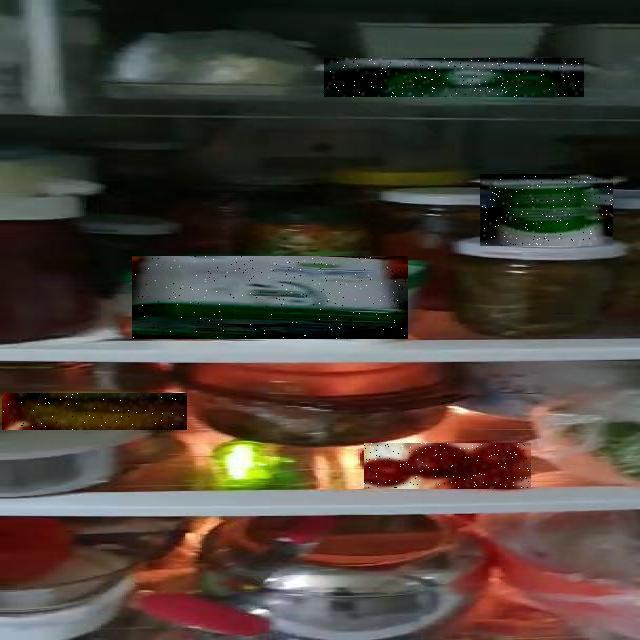Banana: (2, 393, 187, 430)
Cheese: (133, 256, 409, 339)
Cream: (324, 58, 584, 97)
Tomato Paste: (364, 443, 531, 489)
Yoghurt: (480, 174, 613, 246)
